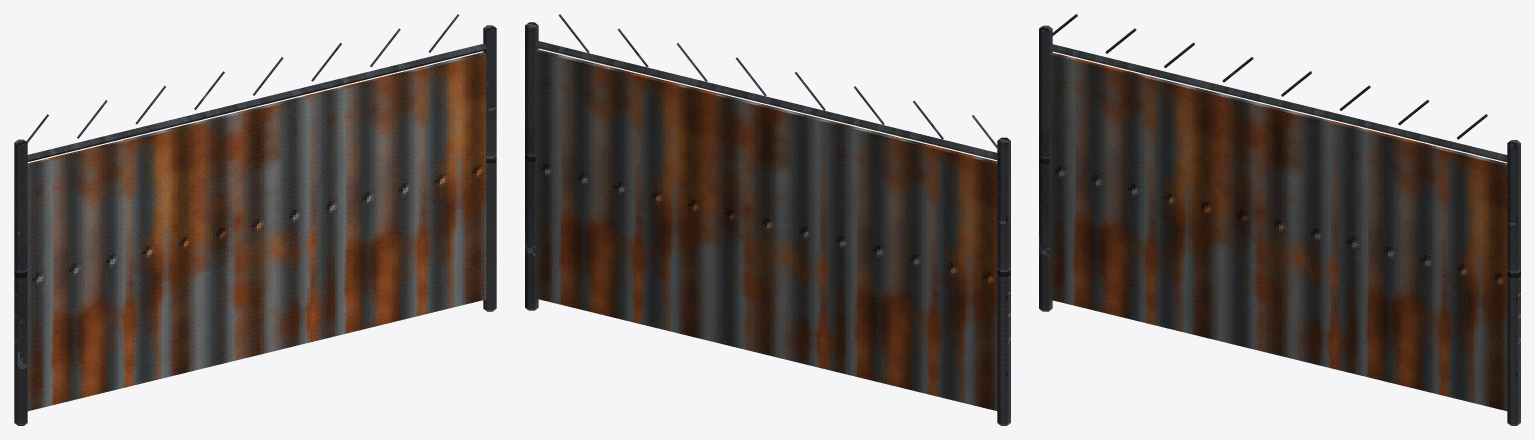
Rendered from prop_fence_metal.glb.
3 views of the same model, side by side, from view 1: azimuth 30°, elevation 25°; view 2: azimuth 150°, elevation 25°; view 3: azimuth 330°, elevation 25° (orthographic).
Parts seen in each view (by area): view 1: prop_fence_metal_mesh; view 2: prop_fence_metal_mesh; view 3: prop_fence_metal_mesh.
Boxes of the visible parts, <box> form: prop_fence_metal_mesh: <box>14,14,496,425</box>; prop_fence_metal_mesh: <box>525,14,1010,425</box>; prop_fence_metal_mesh: <box>1039,14,1520,425</box>.
Size of what is drawn, in the model's own units: 4.09 by 2.46 by 0.1.
2 materials, 2 textured.
